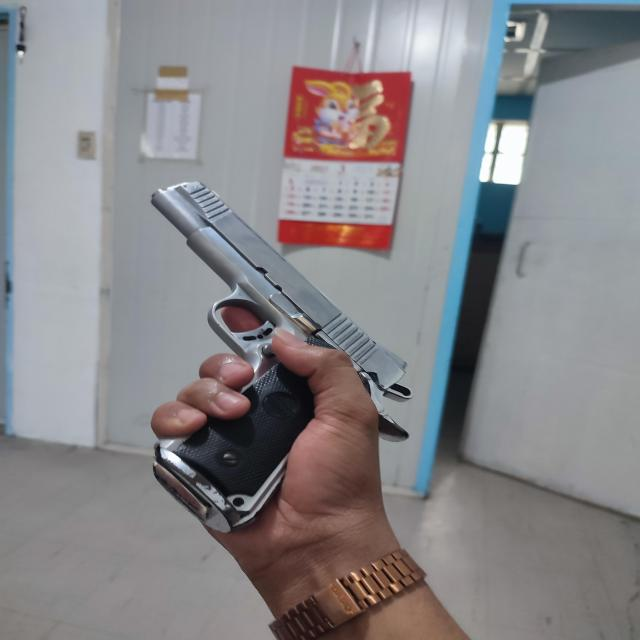pistol: (150, 181, 410, 524)
